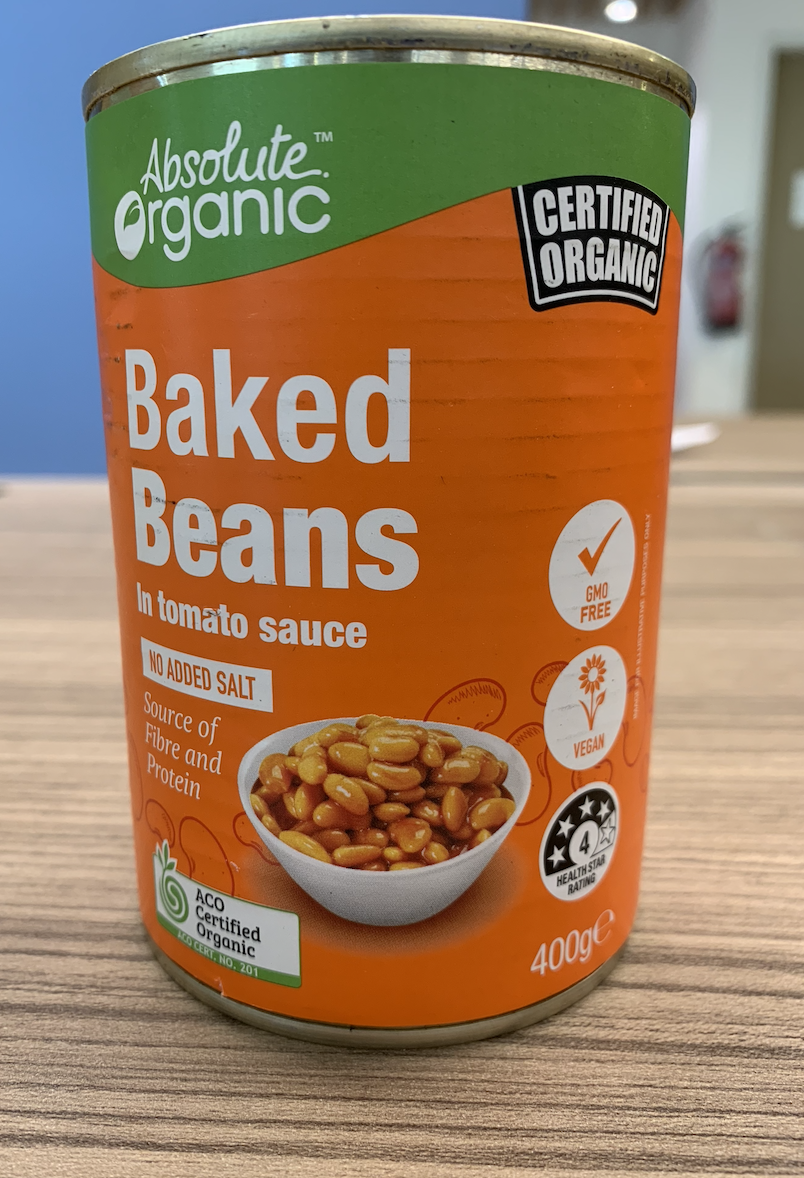Baked beans_400-499g: (119, 98, 649, 982)
